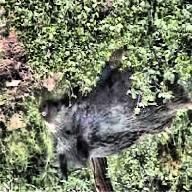boar: (44, 28, 191, 181)
